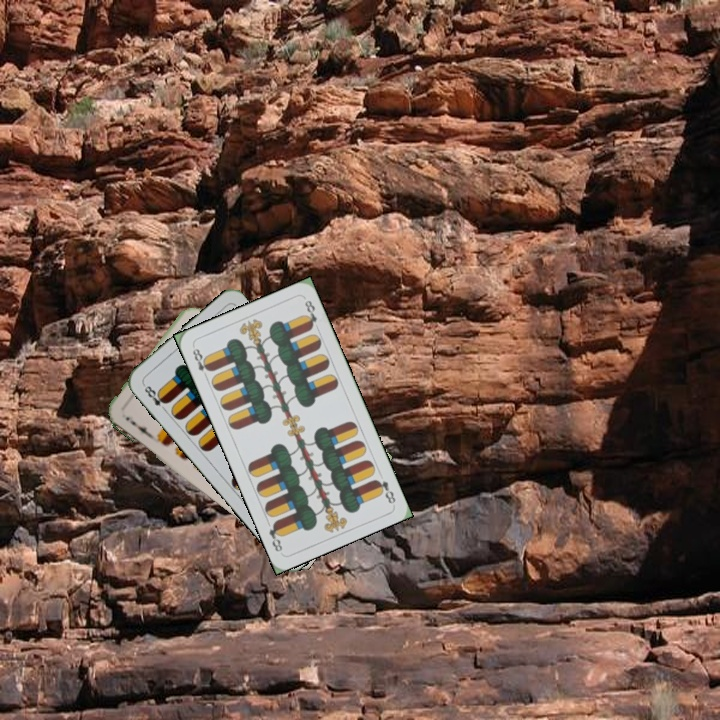E7: (121, 412, 153, 439)
E8: (139, 380, 171, 414), (188, 344, 214, 381), (371, 475, 398, 506)
